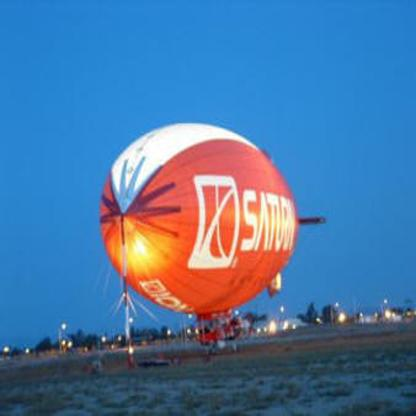Airship: (98, 119, 333, 356)
